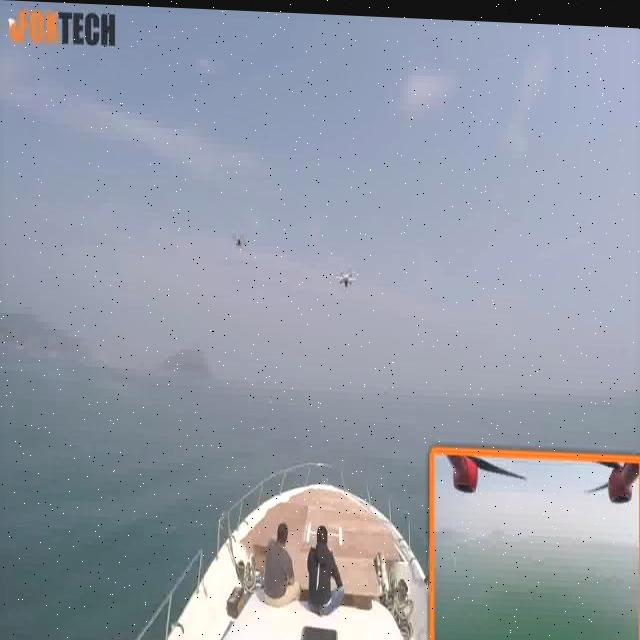drone: (328, 251, 358, 290)
